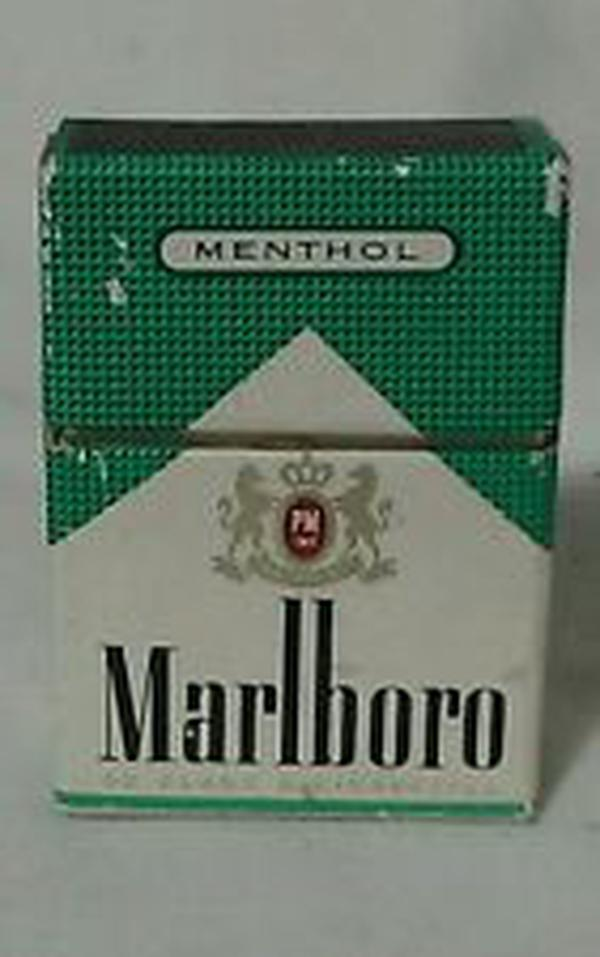marlboro_mentol: (49, 168, 541, 817)
